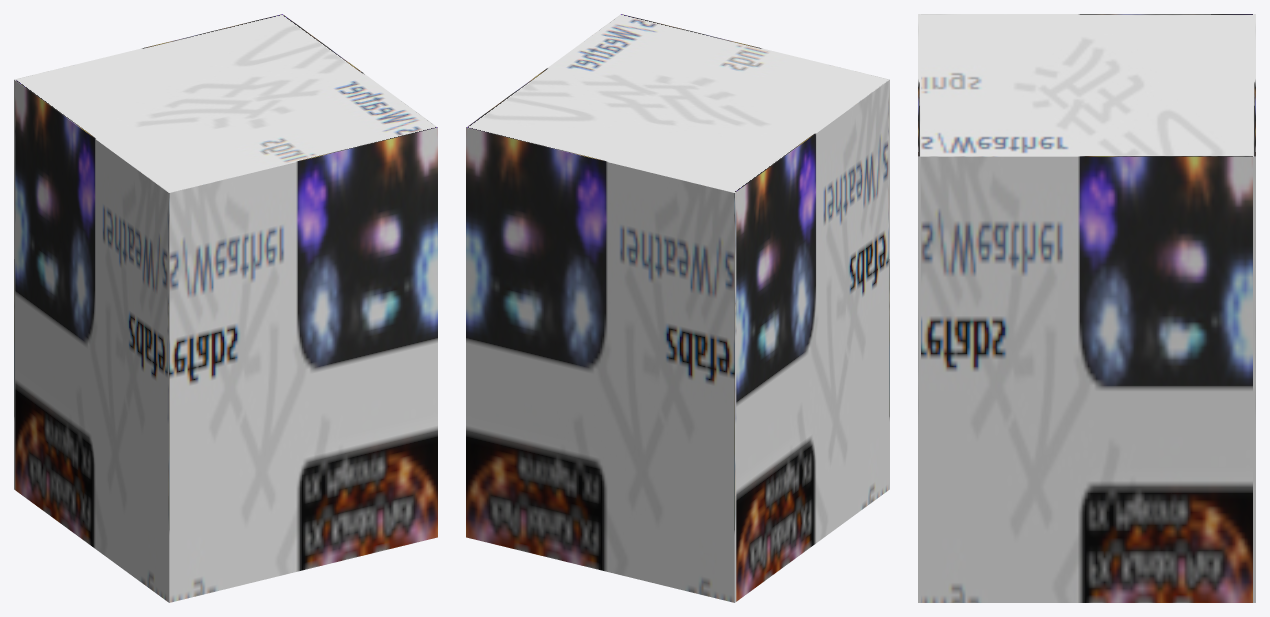
Rendered from zgboli.FBX.
3 views of the same model, side by side, from view 1: azimuth 30°, elevation 25°; view 2: azimuth 150°, elevation 25°; view 3: azimuth 270°, elevation 25° (orthographic). The views are drawn at different scales.
Visible parts, largest first — view 1: Object001; view 2: Object001; view 3: Object001.
Boxes of the visible parts, x1,y1,x2,y2 form: Object001: (14,14,437,602); Object001: (466,14,889,602); Object001: (918,14,1255,602).
Bounding box in the file's own units: 78.42 × 114 × 78.42.
Materials: 1 (1 with a texture image).
